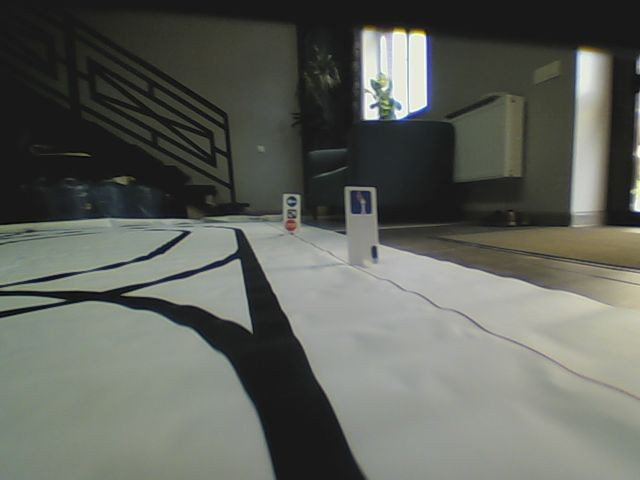priority_movement: (348, 190, 373, 216)
